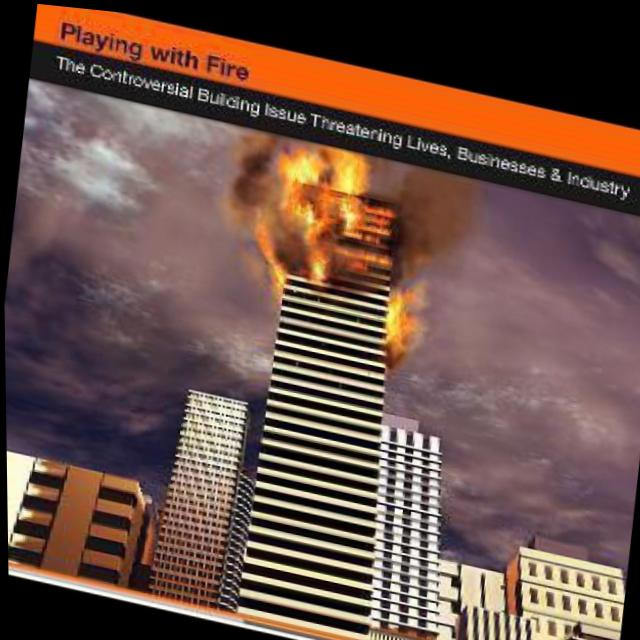Fire: (247, 130, 459, 374)
